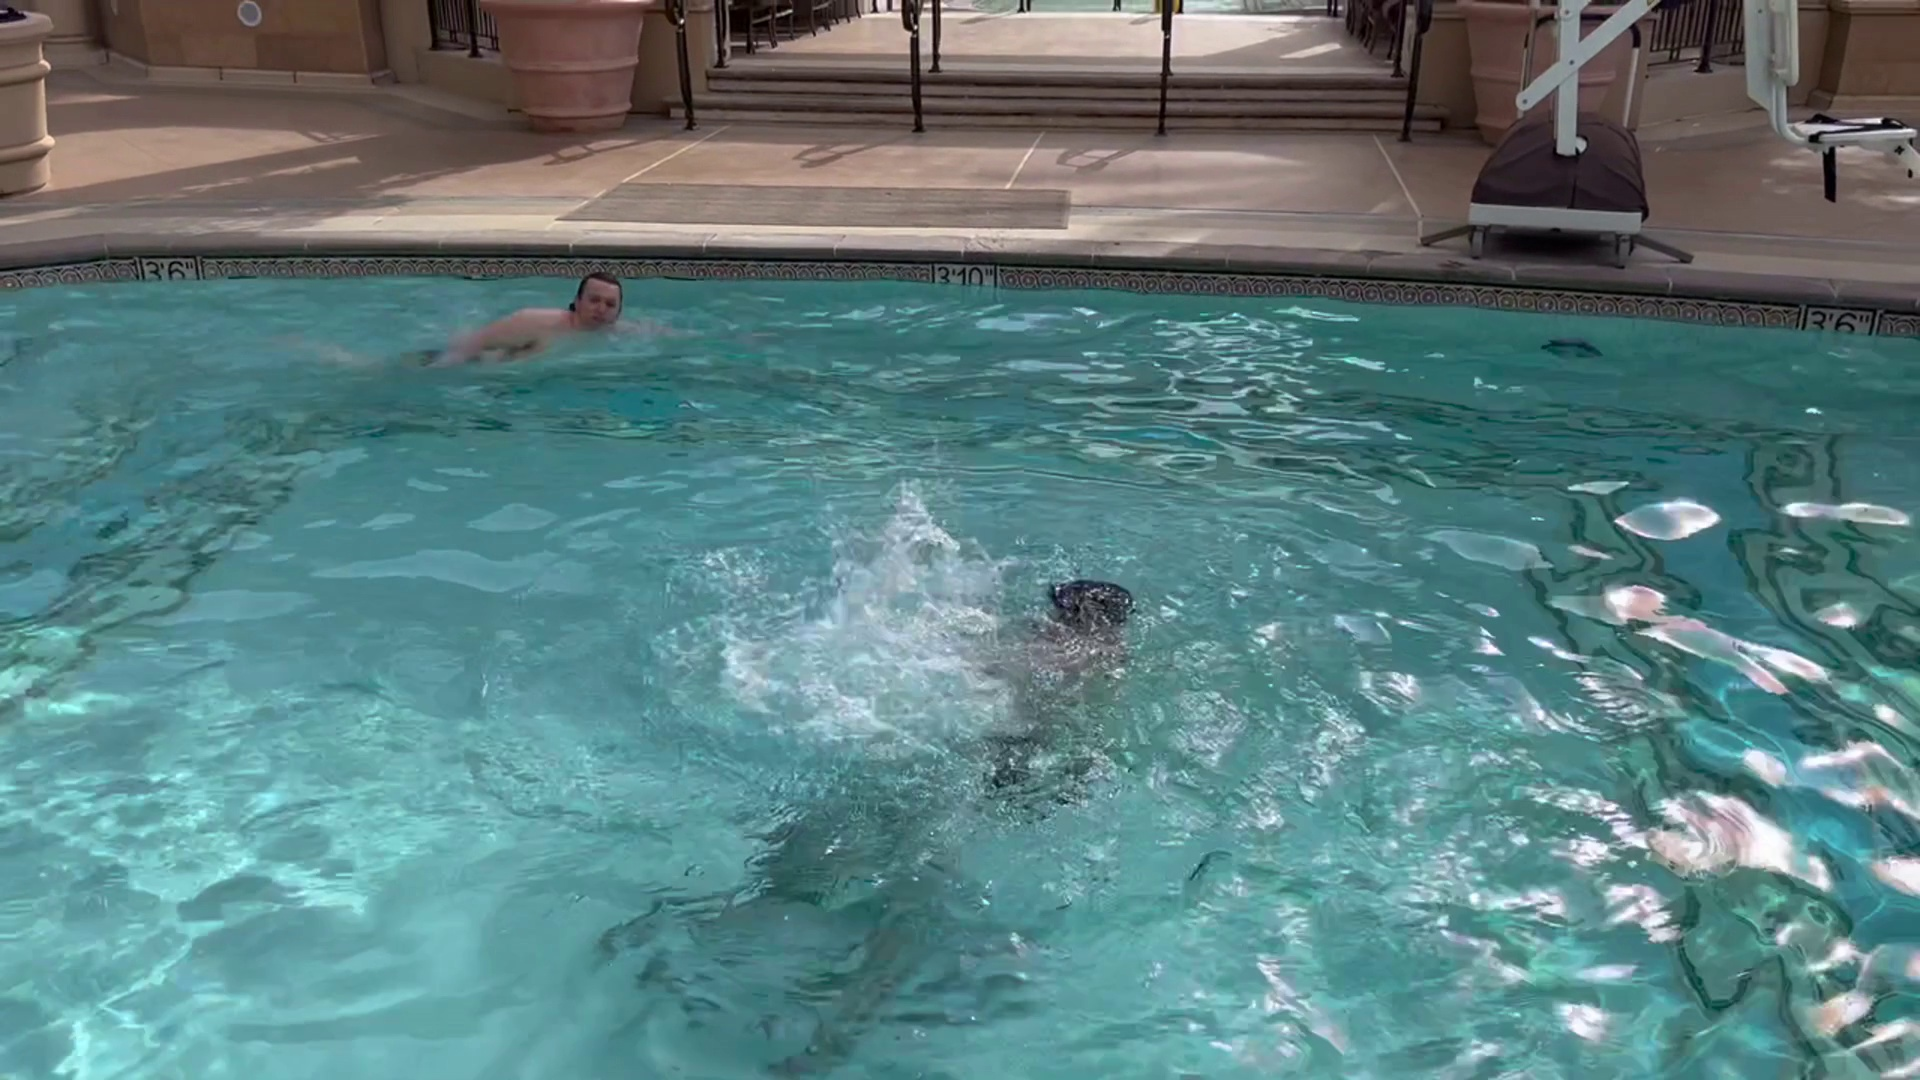danger: (661, 444, 1189, 800)
